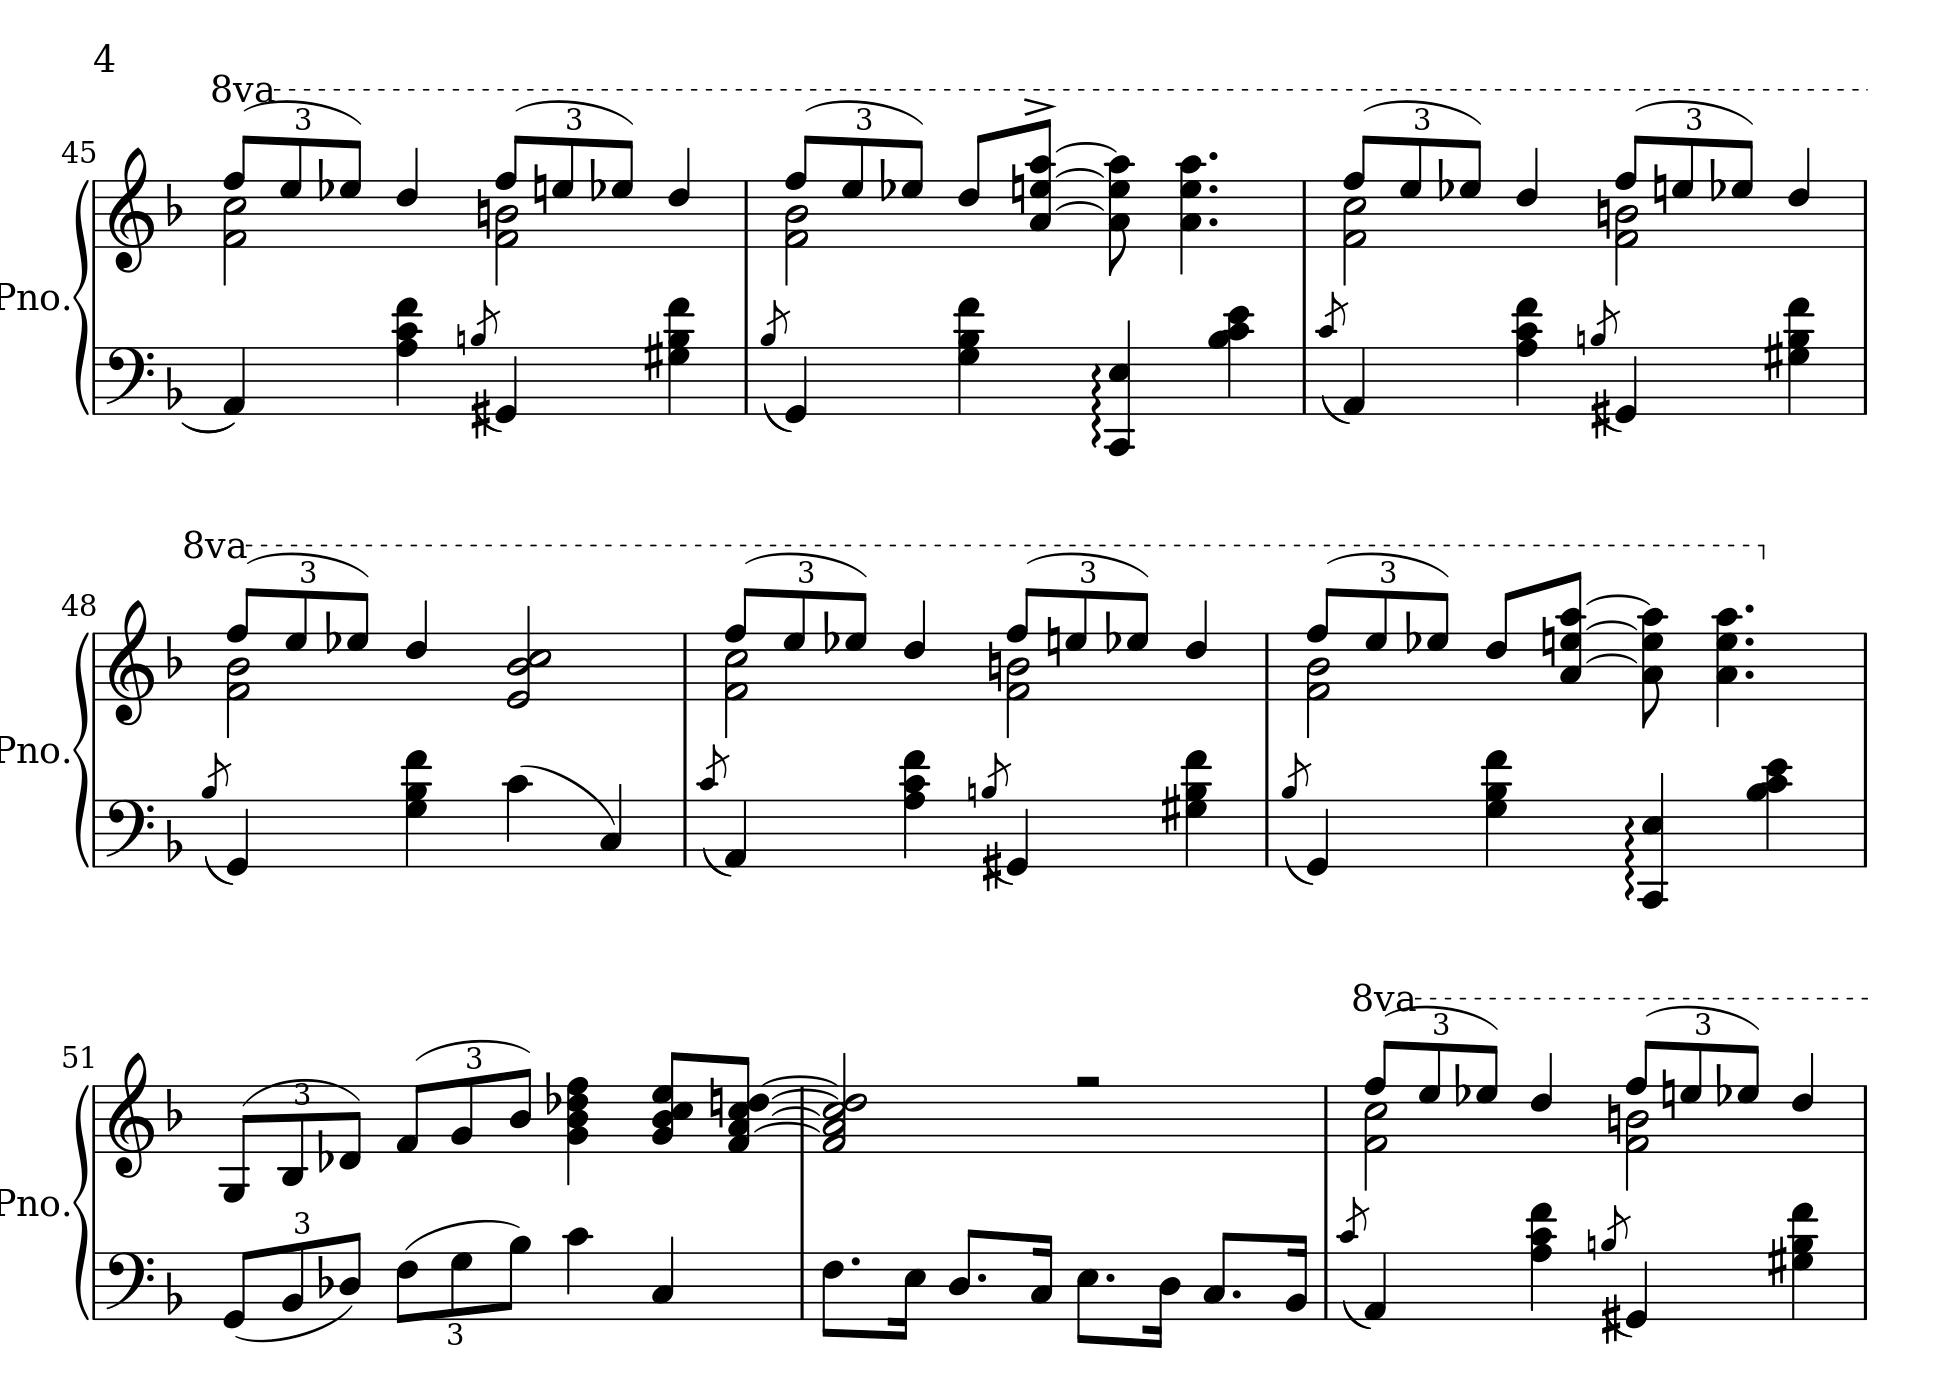1: (81, 1042, 96, 1069)
16_2: (1284, 1231, 1309, 1321)
16_3: (1029, 1231, 1054, 1320)
16_4: (1146, 1249, 1182, 1348)
16_5: (889, 1249, 925, 1342)
2_4th: (822, 1051, 865, 1155)
2_th: (504, 604, 553, 709)
3: (444, 1321, 465, 1345), (291, 1209, 310, 1234), (1684, 106, 1704, 130), (1693, 1012, 1713, 1036), (564, 106, 582, 132), (853, 106, 871, 132), (1413, 106, 1431, 132), (796, 559, 814, 585), (298, 559, 316, 583), (1378, 559, 1396, 583), (1431, 1012, 1449, 1036), (294, 106, 310, 132), (1080, 559, 1096, 583), (465, 1045, 481, 1069), (294, 1084, 310, 1107)
4: (93, 40, 115, 72), (61, 138, 78, 165), (61, 591, 78, 616)
4_-4_5: (1636, 772, 1672, 910), (1104, 319, 1137, 456)
4_0: (1615, 343, 1639, 426), (226, 798, 250, 879), (1626, 1249, 1650, 1330), (784, 345, 808, 424), (1006, 796, 1029, 877), (1308, 796, 1330, 877), (495, 345, 517, 424)
4_1: (220, 346, 247, 418), (723, 798, 748, 871), (1363, 1251, 1389, 1323), (1342, 346, 1366, 418)
4_10: (502, 772, 532, 868), (562, 1225, 592, 1321)
4_3: (649, 1234, 675, 1321), (598, 783, 622, 870)
4_4th: (562, 1072, 589, 1183)
4_6: (403, 597, 430, 703), (394, 145, 420, 250), (666, 145, 691, 250), (1515, 145, 1540, 250), (1786, 145, 1812, 250), (901, 598, 927, 703), (1183, 598, 1209, 703), (1530, 1050, 1554, 1155), (1791, 1051, 1815, 1155)
4_th: (1746, 756, 1795, 870), (1524, 1197, 1558, 1320), (661, 292, 694, 417), (1782, 292, 1815, 415), (898, 744, 931, 867), (390, 292, 423, 412), (1510, 291, 1542, 414), (952, 292, 984, 415), (1786, 1198, 1818, 1321), (400, 745, 432, 867), (1180, 747, 1212, 868), (1480, 745, 1512, 865), (1711, 607, 1740, 729), (1176, 154, 1204, 274)
5: (61, 1041, 79, 1069), (79, 136, 97, 163)
8: (79, 589, 96, 616)
8_-1: (337, 1083, 364, 1171)
8_-3: (277, 1080, 307, 1186)
8_-5: (219, 1081, 253, 1203)
8_0: (223, 1246, 258, 1330)
8_1: (394, 1081, 429, 1153)
8_2: (279, 1239, 304, 1321), (448, 1075, 474, 1155)
8_3: (1203, 1228, 1236, 1321)
8_4: (946, 1225, 981, 1320), (337, 1230, 363, 1321), (507, 1066, 532, 1155)
8_4th: (651, 1051, 694, 1155), (726, 1054, 769, 1153)
8_5: (1074, 1249, 1099, 1345)
8_6: (955, 130, 993, 250), (1485, 586, 1519, 703), (820, 1249, 846, 1341), (394, 1249, 418, 1324)
8_7: (1398, 135, 1423, 250), (283, 586, 309, 702), (1363, 586, 1389, 702), (277, 136, 303, 250), (781, 588, 807, 702), (1063, 589, 1089, 703), (1417, 1039, 1443, 1153), (840, 136, 865, 249), (900, 136, 925, 249), (1458, 136, 1483, 249), (337, 138, 363, 249), (345, 589, 370, 700), (843, 589, 868, 700), (1426, 589, 1452, 700), (1125, 591, 1150, 700), (550, 136, 574, 250), (1671, 136, 1695, 250), (1680, 1042, 1704, 1155), (610, 138, 634, 249), (1476, 1042, 1500, 1153), (1737, 1042, 1761, 1153), (1731, 138, 1755, 247), (448, 1249, 472, 1320)
8_9: (496, 1234, 532, 1321)
8_th: (1104, 153, 1137, 273), (1557, 568, 1587, 700), (1638, 606, 1669, 729), (1026, 118, 1054, 247)
Accent_above: (1023, 94, 1056, 115)
Acciaccature: (1335, 1195, 1369, 1323), (697, 744, 729, 867), (469, 298, 501, 418), (757, 298, 790, 412), (1317, 294, 1348, 412), (1281, 753, 1314, 865), (199, 751, 229, 868), (981, 753, 1011, 868), (1602, 1203, 1630, 1320), (1591, 300, 1620, 414)
Arpeggio: (1090, 361, 1104, 451), (1624, 816, 1636, 903)
Brace: (72, 175, 91, 415), (72, 1081, 91, 1317), (72, 631, 91, 865)
Fclef: (103, 796, 156, 870), (103, 345, 154, 417), (103, 1249, 153, 1321)
Flat: (163, 631, 184, 681), (163, 180, 184, 228), (163, 364, 184, 412), (163, 816, 184, 864), (163, 1084, 184, 1132), (163, 1269, 184, 1315), (543, 1069, 562, 1117), (315, 1252, 334, 1300), (316, 154, 334, 202), (588, 154, 606, 202), (877, 154, 895, 202), (322, 607, 340, 654), (820, 607, 838, 654), (1104, 607, 1122, 654), (1404, 607, 1422, 654), (1452, 1060, 1470, 1105), (1437, 154, 1453, 202), (1708, 154, 1725, 201), (316, 1128, 333, 1174), (1714, 1060, 1731, 1107)
Gclef: (106, 597, 154, 727), (106, 145, 154, 274), (106, 1051, 154, 1177)
Natural: (474, 186, 492, 241), (1594, 186, 1612, 241), (1651, 160, 1669, 216), (1539, 613, 1557, 669), (1605, 1090, 1623, 1146), (706, 1075, 724, 1129), (1009, 160, 1026, 217), (1660, 1066, 1677, 1123), (532, 162, 549, 217), (987, 639, 1003, 694), (1045, 613, 1062, 669), (454, 321, 468, 358), (1575, 319, 1587, 358), (1587, 1225, 1599, 1263), (966, 774, 978, 810)
Pno: (1, 279, 60, 316), (1, 732, 61, 768)
Rests2: (1072, 1069, 1105, 1092)
Sharp: (642, 328, 664, 382), (981, 838, 1003, 892), (1600, 1291, 1623, 1345), (1762, 330, 1785, 382), (469, 385, 490, 439), (1590, 385, 1611, 439), (1767, 1234, 1788, 1288), (1161, 783, 1182, 835)
Single_barline: (676, 798, 694, 865), (1857, 631, 1873, 699), (793, 1251, 810, 1318), (1857, 180, 1873, 246), (1296, 346, 1312, 412), (738, 346, 754, 412), (1855, 799, 1872, 865), (1857, 1084, 1873, 1150), (676, 633, 693, 697), (1258, 633, 1275, 697), (738, 181, 754, 244), (1296, 181, 1312, 244), (87, 178, 102, 247), (1857, 346, 1872, 414), (1260, 798, 1275, 865), (1318, 1251, 1333, 1318), (88, 346, 103, 412), (1857, 1252, 1872, 1318), (1318, 1086, 1333, 1150), (88, 631, 102, 699), (88, 1084, 102, 1152), (88, 799, 102, 865), (88, 1251, 102, 1317)
Slur: (520, 760, 615, 823), (237, 1300, 354, 1344), (403, 1216, 523, 1249), (241, 1078, 358, 1108), (1632, 97, 1755, 124), (1363, 97, 1479, 124), (244, 100, 363, 126), (514, 99, 633, 124), (1644, 1002, 1758, 1027), (814, 100, 921, 127), (1329, 550, 1438, 576), (250, 550, 357, 576), (751, 552, 856, 577), (418, 1036, 529, 1060), (1035, 553, 1138, 577), (201, 853, 237, 886), (700, 844, 733, 877), (760, 400, 793, 432), (1341, 1297, 1374, 1329), (760, 1072, 841, 1084), (1320, 394, 1351, 424), (1585, 592, 1651, 606), (768, 1086, 841, 1098), (1054, 141, 1119, 154), (754, 1120, 820, 1132), (178, 420, 237, 433), (1582, 651, 1641, 664), (1584, 619, 1639, 631), (1053, 166, 1107, 178), (1054, 199, 1105, 211), (769, 1105, 823, 1114)
dot: (1741, 601, 1758, 616), (1102, 1269, 1117, 1285), (1206, 148, 1221, 163), (1206, 181, 1221, 196), (1743, 633, 1758, 648), (847, 1252, 862, 1267), (1743, 667, 1758, 681), (975, 1270, 990, 1284), (1207, 214, 1221, 228), (1230, 1285, 1242, 1300)
